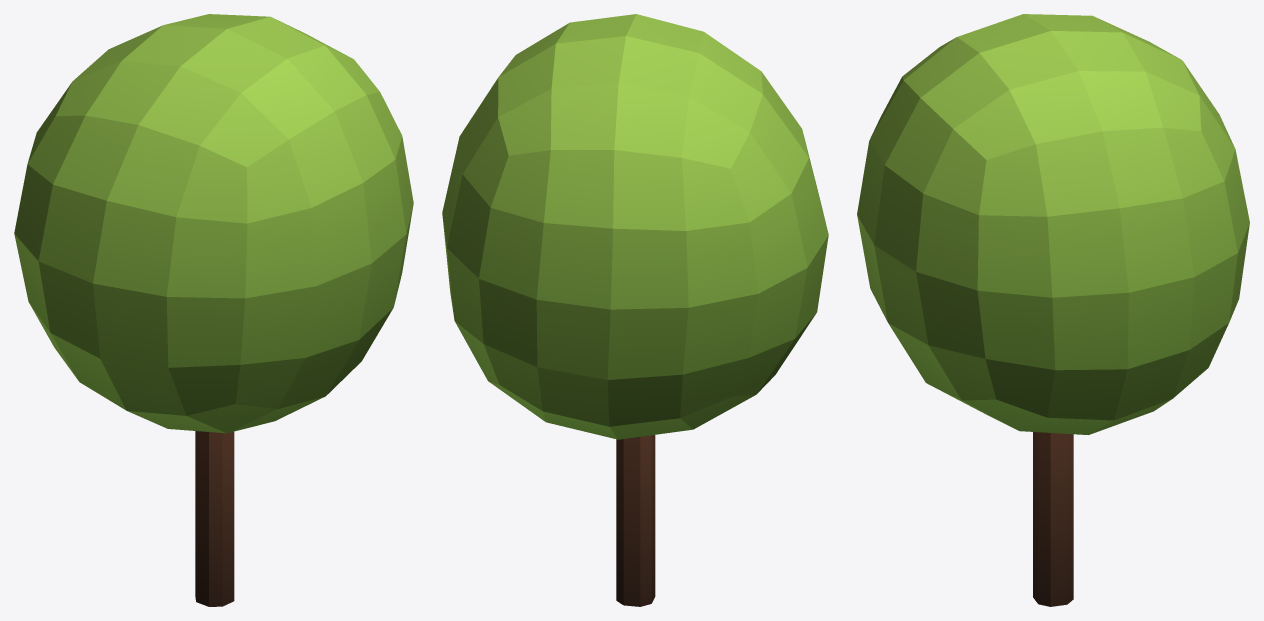
The model's file is single tree.fbx.
3 views of the same model, side by side, from view 1: azimuth 30°, elevation 25°; view 2: azimuth 150°, elevation 25°; view 3: azimuth 270°, elevation 25° (orthographic). The views are drawn at different scales.
Visible parts, largest first — view 1: Cube.403; view 2: Cube.403; view 3: Cube.403.
Part boxes in pixels (x1=…): Cube.403: x1=14, y1=14, x2=413, y2=606; Cube.403: x1=442, y1=14, x2=828, y2=606; Cube.403: x1=857, y1=14, x2=1249, y2=606.
Bounding box in the file's own units: 11.24 × 17.49 × 10.87.
Materials: 1 (1 with a texture image).
